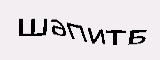Б: (127, 29, 150, 46)
И: (86, 26, 108, 45)
П: (65, 22, 88, 43)
Т: (104, 30, 127, 46)
Ш: (17, 17, 48, 38)
Ә: (51, 18, 67, 38)
